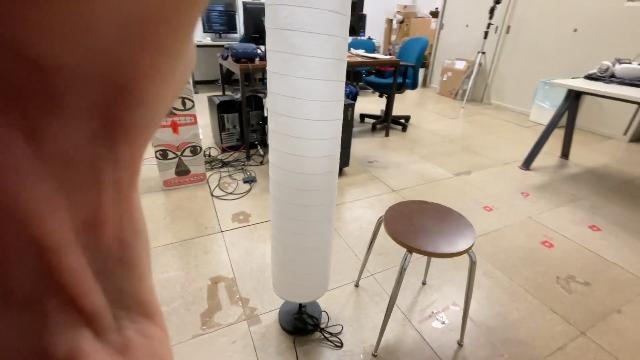Lamp: (258, 0, 356, 346)
Stool: (350, 197, 482, 360)
